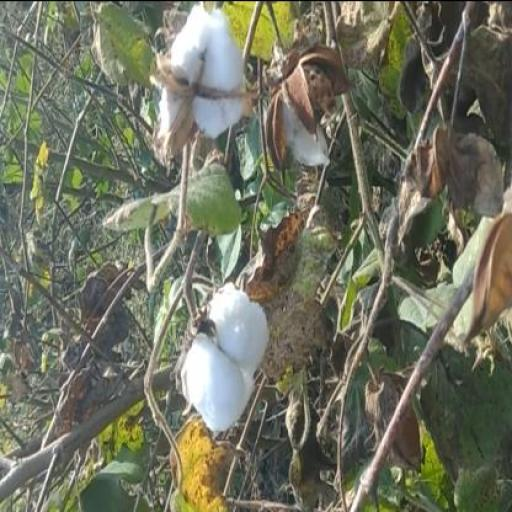cotton_ready: (144, 1, 258, 189), (169, 257, 272, 445)
